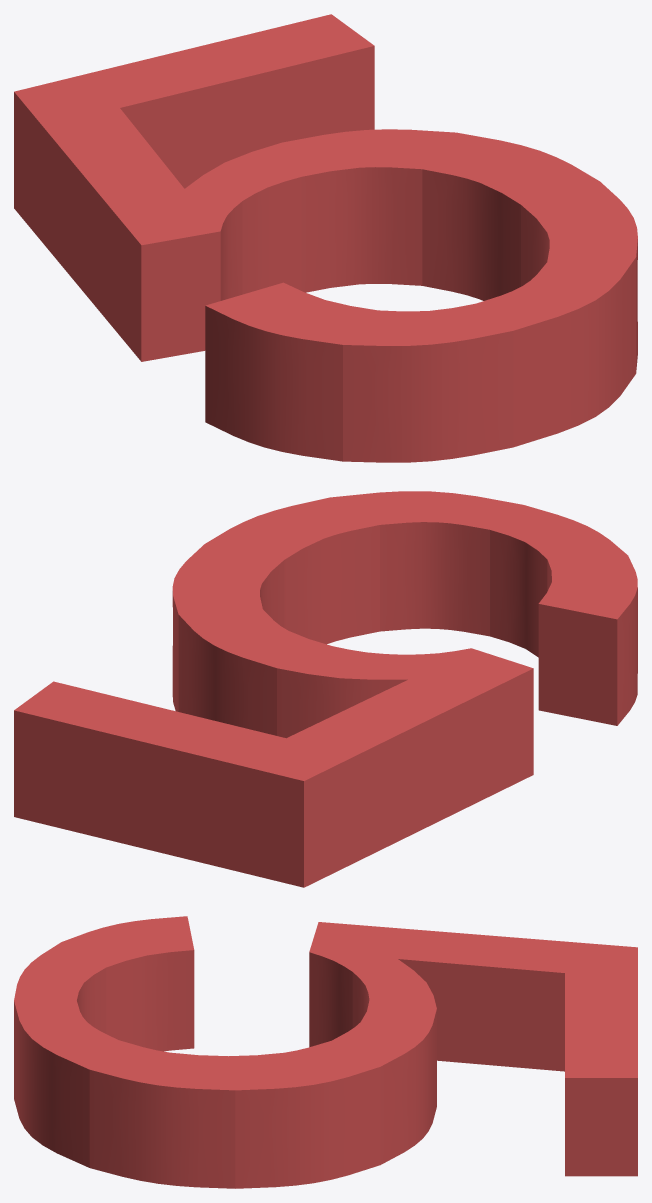
The model's file is uploads_files_1950256_5.fbx.
3 renders of one model, top to bottom at view 1: azimuth 30°, elevation 25°; view 2: azimuth 150°, elevation 25°; view 3: azimuth 270°, elevation 25°, orthographic. The views are drawn at different scales.
Visible parts, largest first — view 1: Body66; view 2: Body66; view 3: Body66.
Boxes of the visible parts, bbox=[...] form: Body66: bbox=[14, 14, 637, 462]; Body66: bbox=[14, 491, 637, 887]; Body66: bbox=[14, 916, 637, 1188].
Bounding box in the file's own units: 18.98 × 5 × 28.73.
